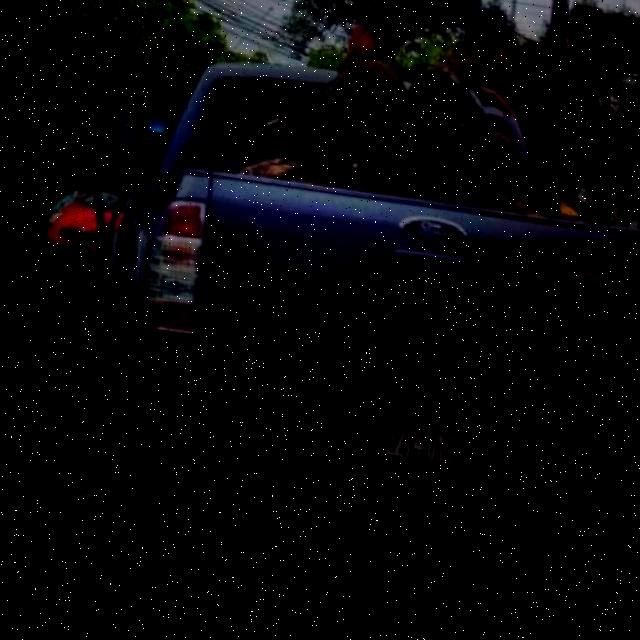license_plate: (343, 410, 455, 492)
